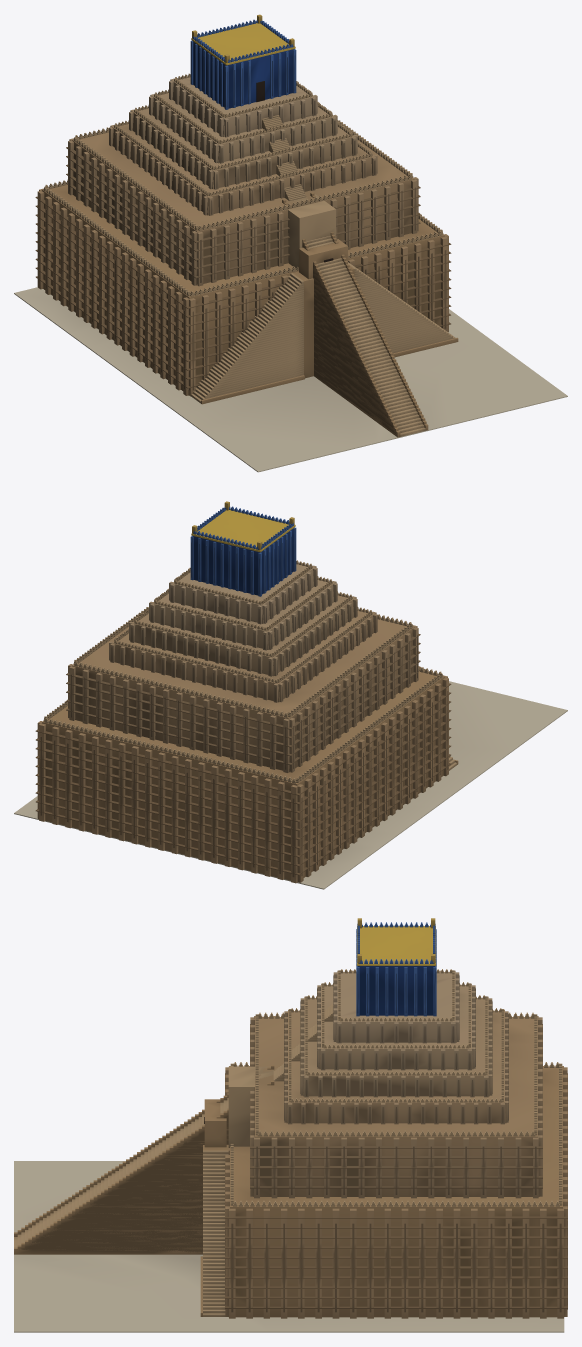
File: etemenanki.glb
3 views of the same model, one above another, from view 1: azimuth 30°, elevation 25°; view 2: azimuth 150°, elevation 25°; view 3: azimuth 270°, elevation 25° (orthographic). The views are drawn at different scales.
Visible parts, largest first — view 1: p0_first stage, p1_stairs and second stage, p2_upper stages, p3_temple; view 2: p0_first stage, p1_stairs and second stage, p2_upper stages, p3_temple; view 3: p0_first stage, p1_stairs and second stage, p2_upper stages, p3_temple.
Boxes of the visible parts, x1,y1,x2,y2 form: p0_first stage: [14, 184, 567, 472]; p1_stairs and second stage: [66, 127, 458, 437]; p2_upper stages: [109, 76, 377, 215]; p3_temple: [43, 14, 443, 296]; p0_first stage: [14, 671, 567, 889]; p1_stairs and second stage: [66, 614, 458, 772]; p2_upper stages: [109, 563, 377, 702]; p3_temple: [43, 501, 443, 783]; p0_first stage: [14, 1066, 567, 1332]; p1_stairs and second stage: [14, 1016, 542, 1316]; p2_upper stages: [273, 970, 508, 1124]; p3_temple: [230, 918, 562, 1206].
Bounding box in the file's own units: 110 × 93.3 × 151.
